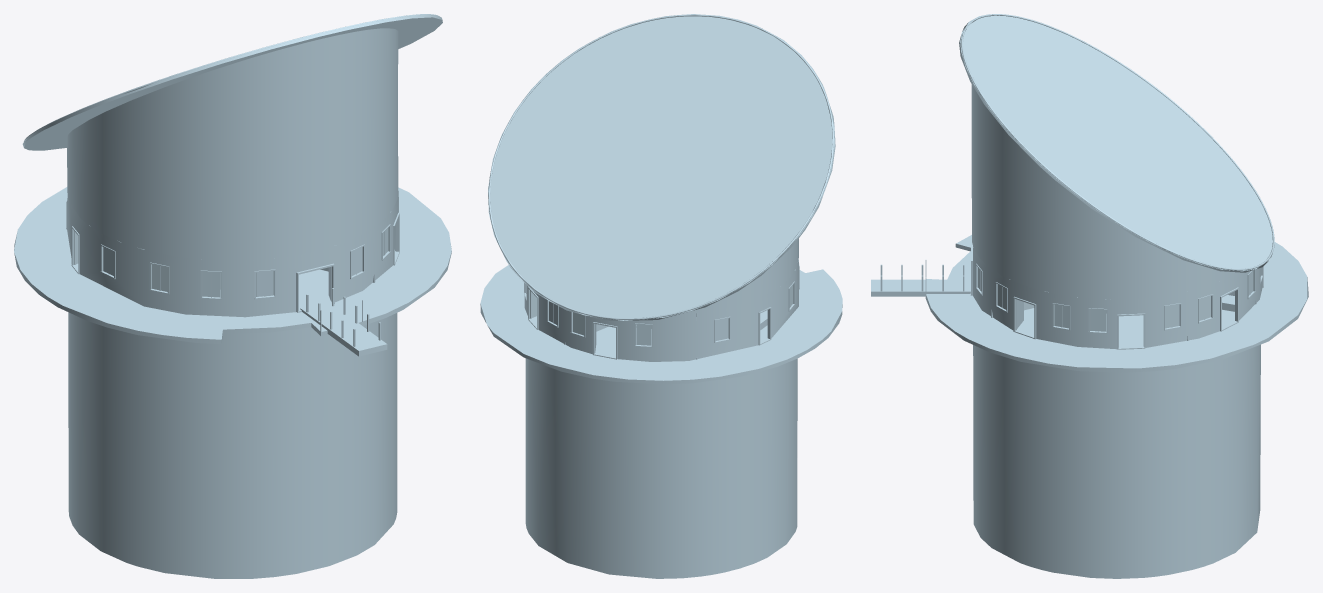
Rendered from tower_crown_1_lod2.glb.
The picture shows the model from 3 angles, left to right: view 1: azimuth 30°, elevation 25°; view 2: azimuth 150°, elevation 25°; view 3: azimuth 270°, elevation 25°; orthographic projection. The views are drawn at different scales.
Visible parts, largest first — view 1: Pit wall, Roof infill, Slab 0, Facade 0, Solar disc, Bridge deck, Solar rim; view 2: Solar disc, Pit wall, Slab 0, Facade 0, Solar rim, Roof infill; view 3: Pit wall, Solar disc, Roof infill, Slab 0, Facade 0, Solar rim, Bridge deck.
Boxes of the visible parts, x1,y1,x2,y2 form: Pit wall: (68,312,397,578); Roof infill: (67,28,398,260); Slab 0: (14,187,451,344); Facade 0: (67,189,398,317); Solar disc: (22,14,442,150); Bridge deck: (300,301,387,356); Solar rim: (23,14,437,142); Solar disc: (488,14,835,320); Pit wall: (525,358,797,578); Slab 0: (480,265,842,384); Facade 0: (524,259,798,361); Solar rim: (488,14,834,319); Roof infill: (679,238,798,314); Pit wall: (973,344,1260,578); Solar disc: (959,14,1274,272); Roof infill: (971,84,1236,299); Slab 0: (925,235,1308,372); Facade 0: (973,246,1262,349); Solar rim: (961,14,1274,270); Bridge deck: (871,279,970,296).
Size of the model in its own units: 19.99 by 27.3 by 22.78.
